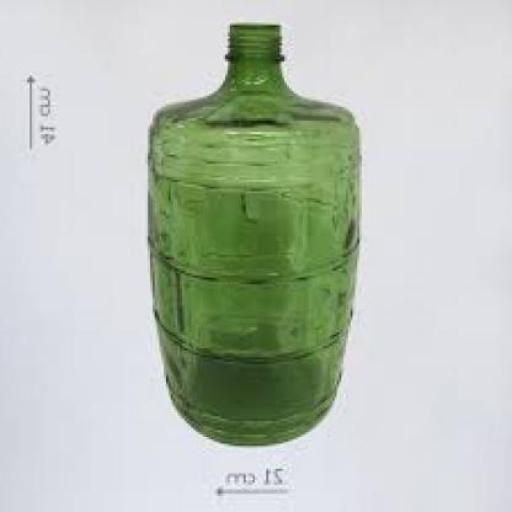glass: (148, 22, 362, 444)
